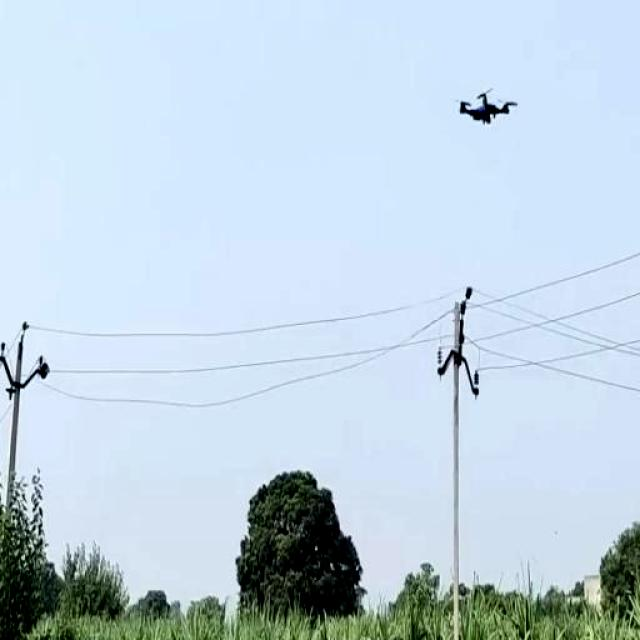bird: (450, 69, 526, 139)
